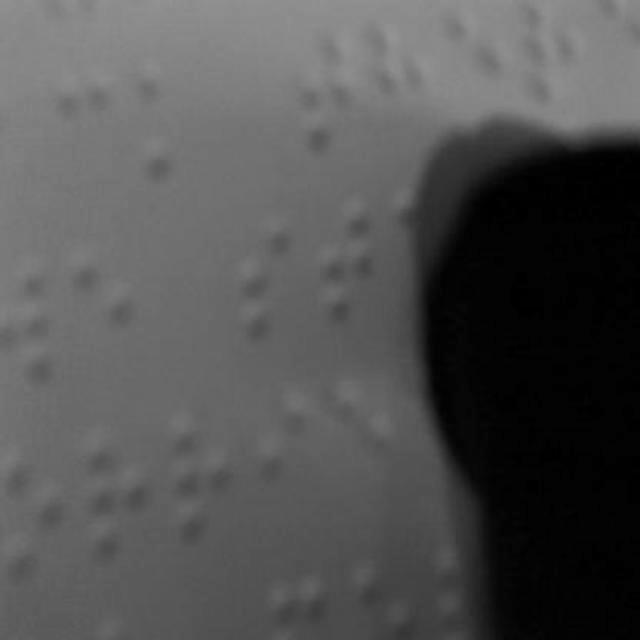braiile: (249, 384, 319, 530), (0, 436, 70, 580), (166, 406, 238, 544), (84, 417, 152, 563), (372, 15, 444, 151), (332, 369, 402, 507), (134, 56, 206, 178), (72, 244, 138, 372), (298, 21, 362, 153), (0, 262, 64, 388), (316, 198, 378, 324), (236, 207, 296, 337), (53, 64, 119, 178)
